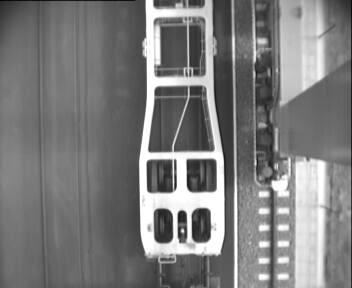twist_lock_2: (149, 206, 216, 246)
